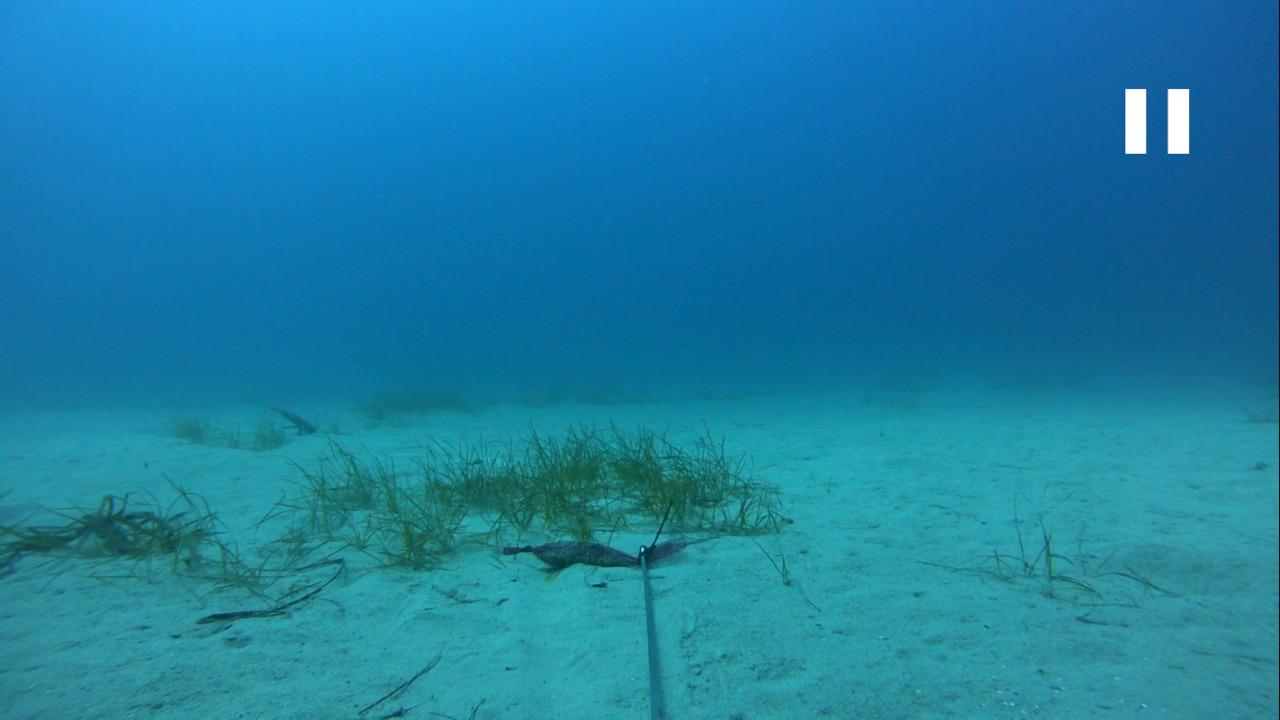dactylopterus: (257, 402, 318, 434)
